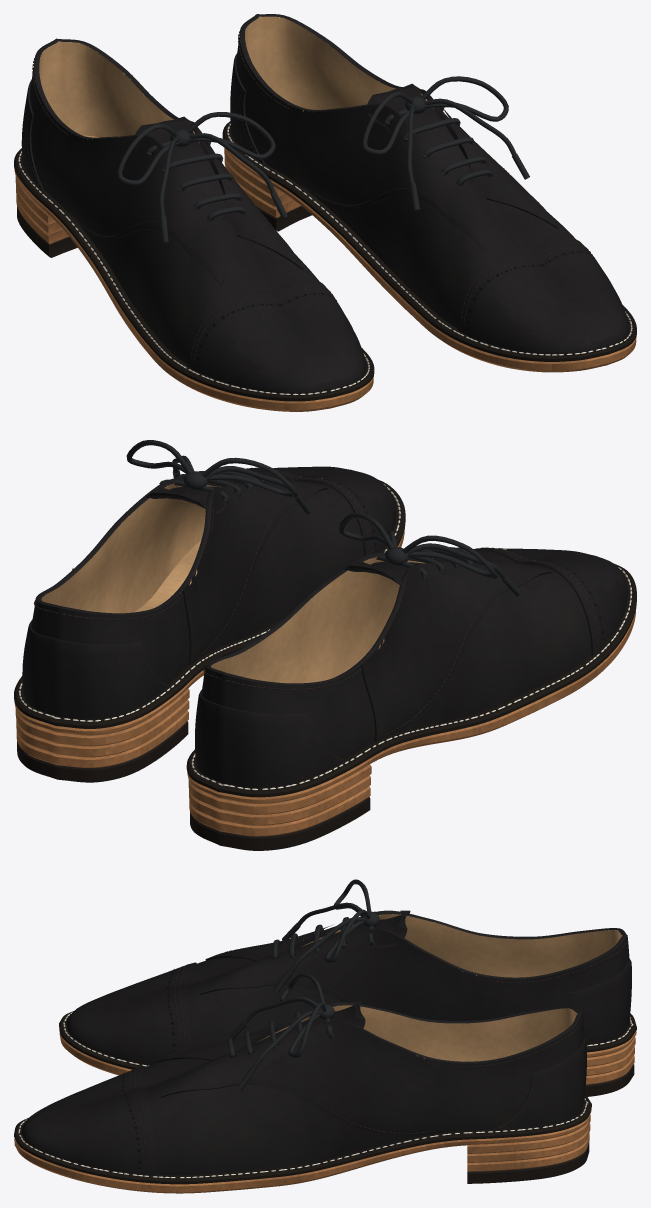
File: oxford-shoe.glb
The picture shows the model from 3 angles, top to bottom: view 1: azimuth 30°, elevation 25°; view 2: azimuth 150°, elevation 25°; view 3: azimuth 270°, elevation 25°; orthographic projection. The views are drawn at different scales.
Parts seen in each view (by area): view 1: Left_Shoe, Right_Shoe; view 2: Right_Shoe, Left_Shoe; view 3: Left_Shoe, Right_Shoe.
Part boxes in pixels (x1=…): Left_Shoe: x1=222, y1=14, x2=636, y2=372; Right_Shoe: x1=14, y1=38, x2=374, y2=411; Right_Shoe: x1=186, y1=513, x2=636, y2=850; Left_Shoe: x1=14, y1=440, x2=405, y2=782; Left_Shoe: x1=14, y1=973, x2=591, y2=1193; Right_Shoe: x1=59, y1=879, x2=636, y2=1096.
Size of the model in its own units: 0.2235 by 0.1003 by 0.3327.
Materials: 9 (3 with a texture image).
